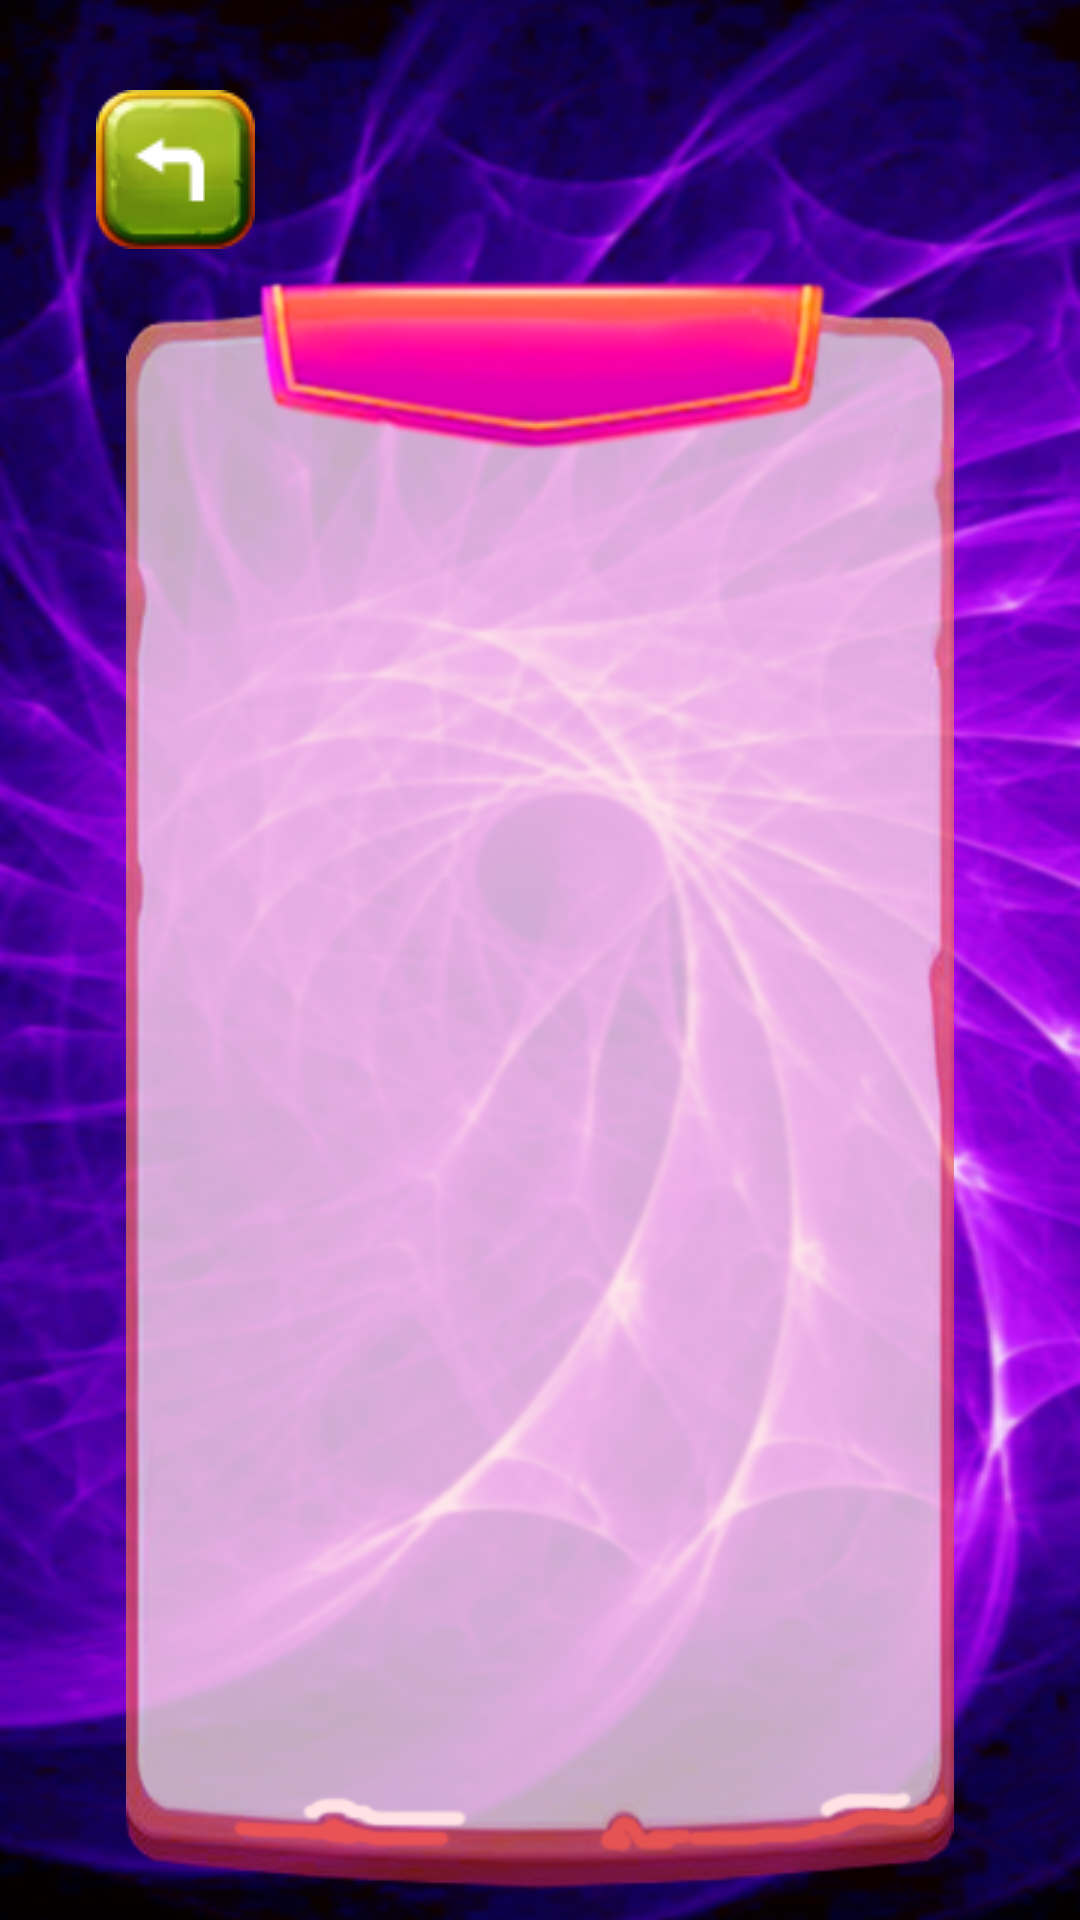

Where to tap for icons on this 1080 × 1920 app screen, as [x,y]:
bott back: [175,169]
